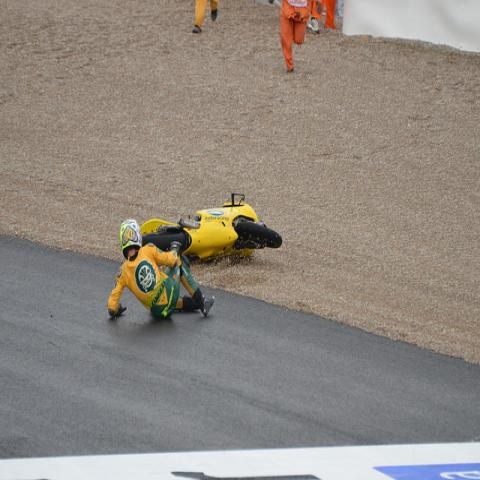motorcycle: (142, 197, 282, 265)
